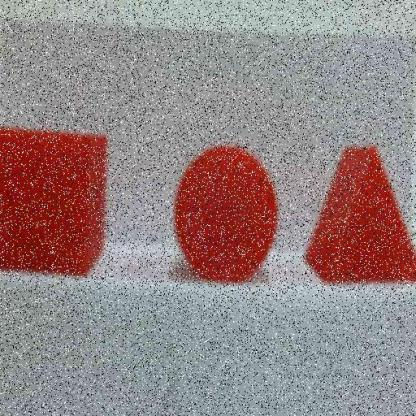circle: (173, 140, 277, 284)
rectangle: (1, 123, 111, 280)
triangle: (302, 144, 416, 282)
